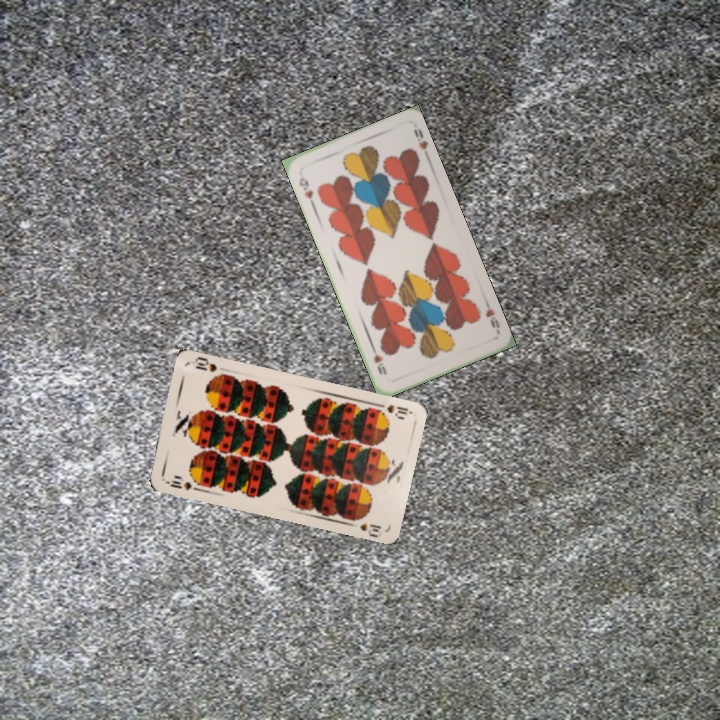H9: (480, 296, 502, 335), (294, 173, 317, 201)
S10: (372, 399, 413, 421), (161, 472, 194, 493)
